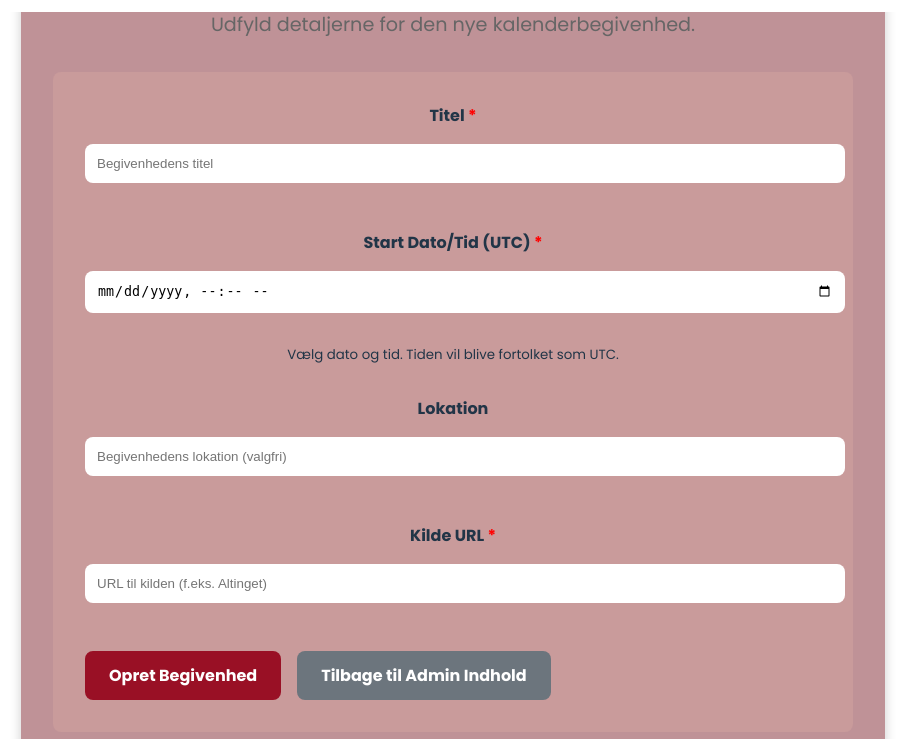
Scenario: AddEvent Component › handles API error on submit
(page scrolled)
In the field labelled "Titel *": (465, 164) 85,144 -> 845,183, type "Test Event"
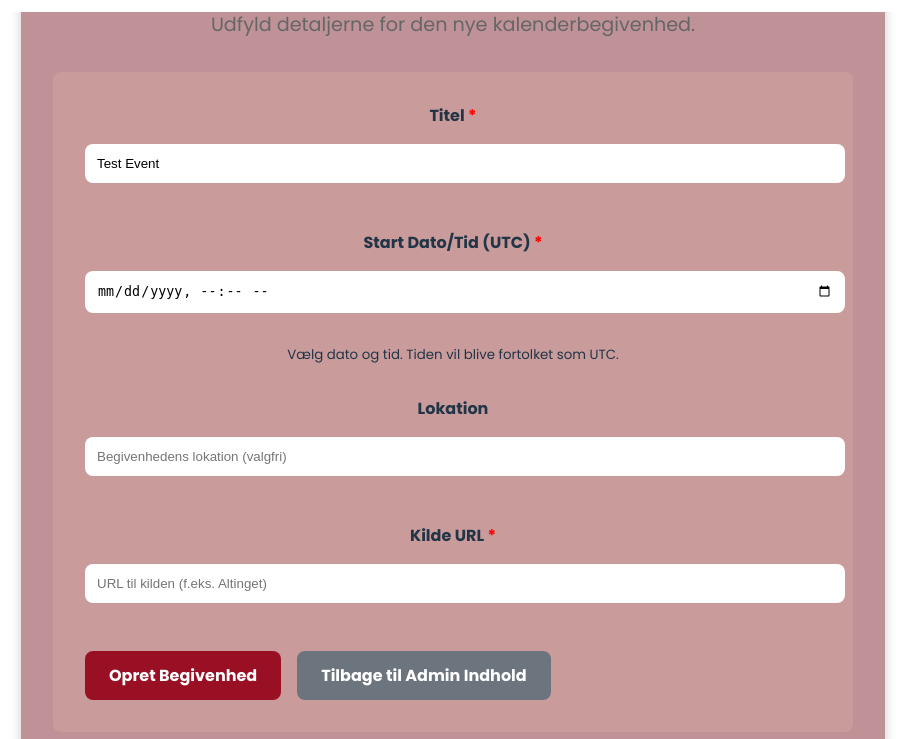
In the field labelled "Start Dato/Tid (UTC) *": (465, 292) 85,271 -> 845,312, type "2025-12-31T10:00"
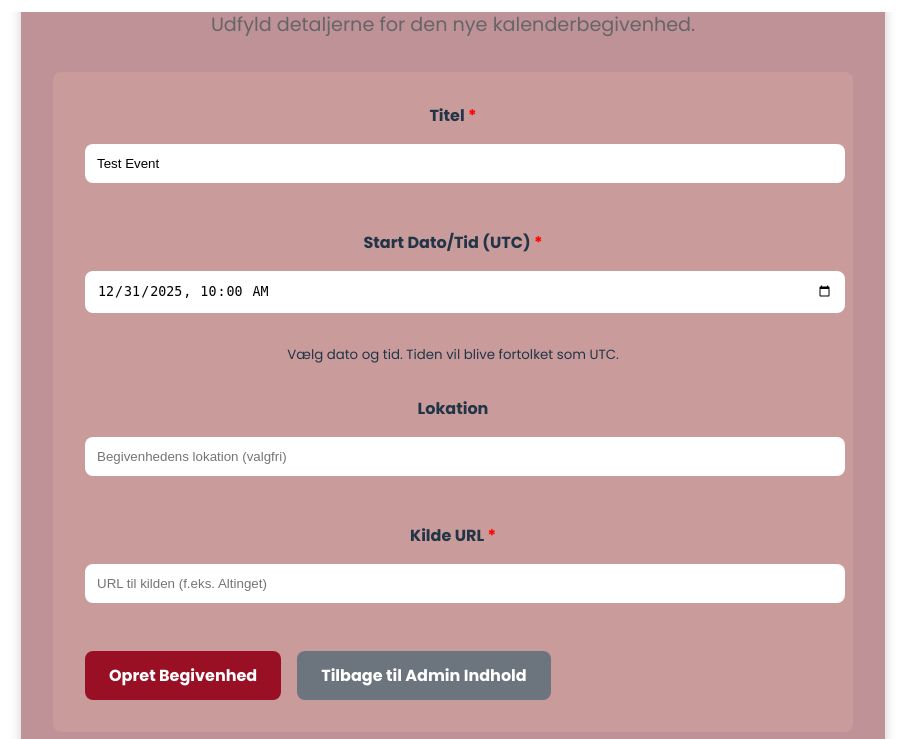
In the field labelled "Kilde URL *": (465, 583) 85,564 -> 845,602, type "http://example.com"
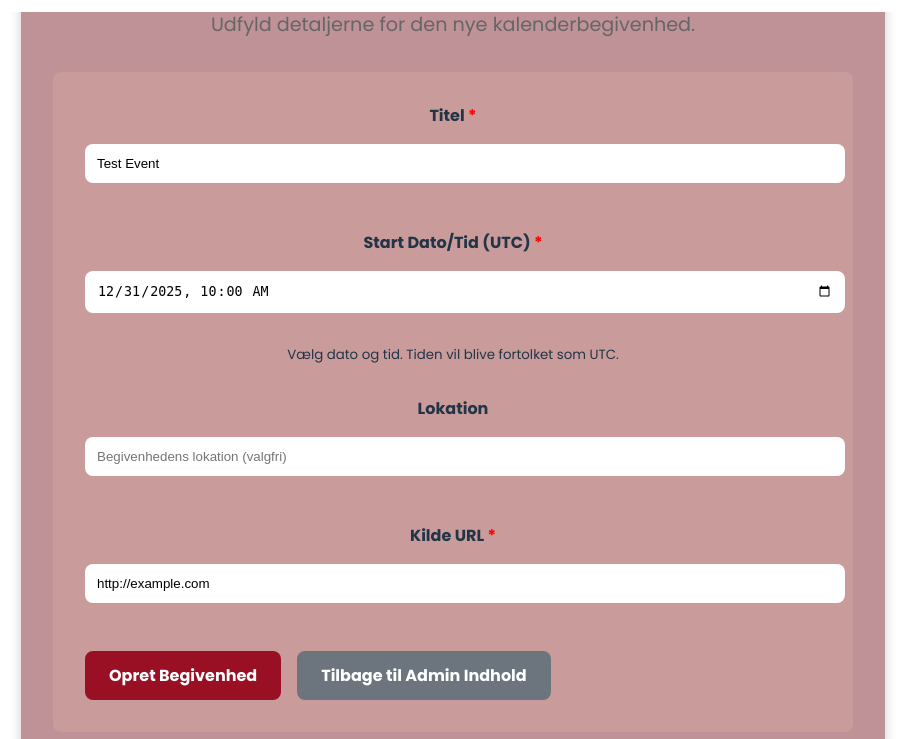
Submit the form from the button "Opret Begivenhed", box 85,650 -> 281,700
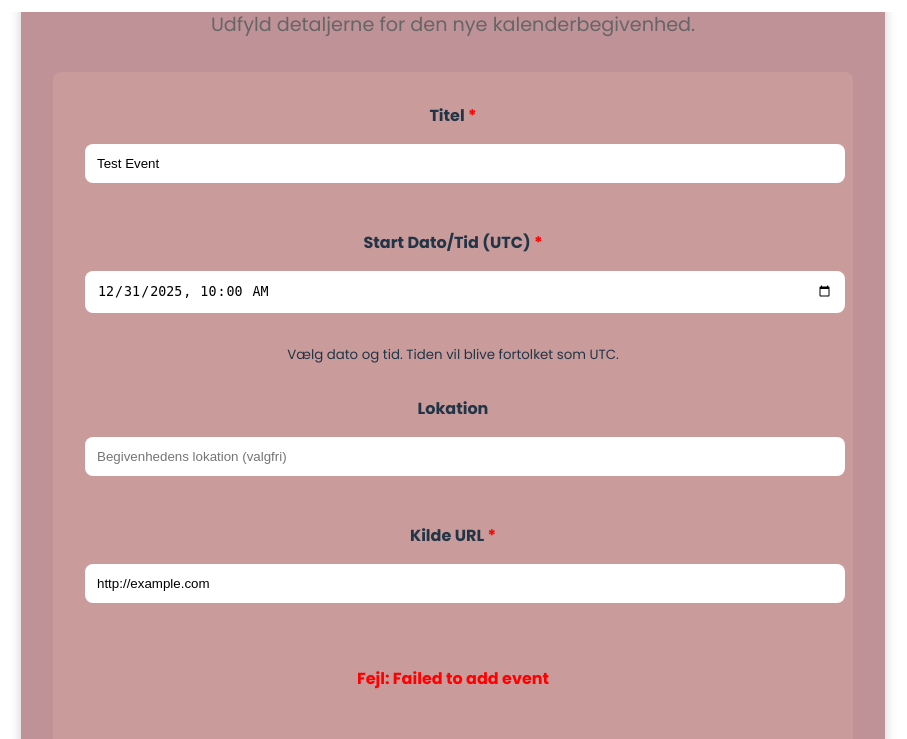
Expected: the text "Fejl: Failed to add event" is shown, 357,666 -> 549,690
